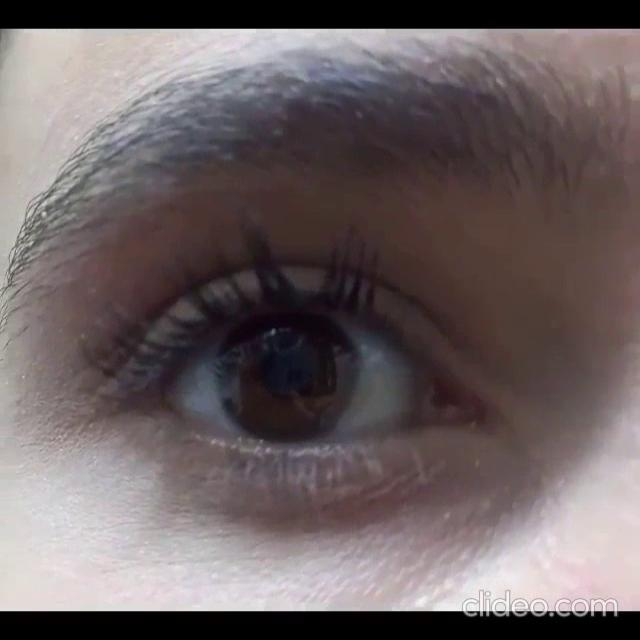iris: (214, 313, 358, 442)
pupille: (260, 347, 314, 394)
